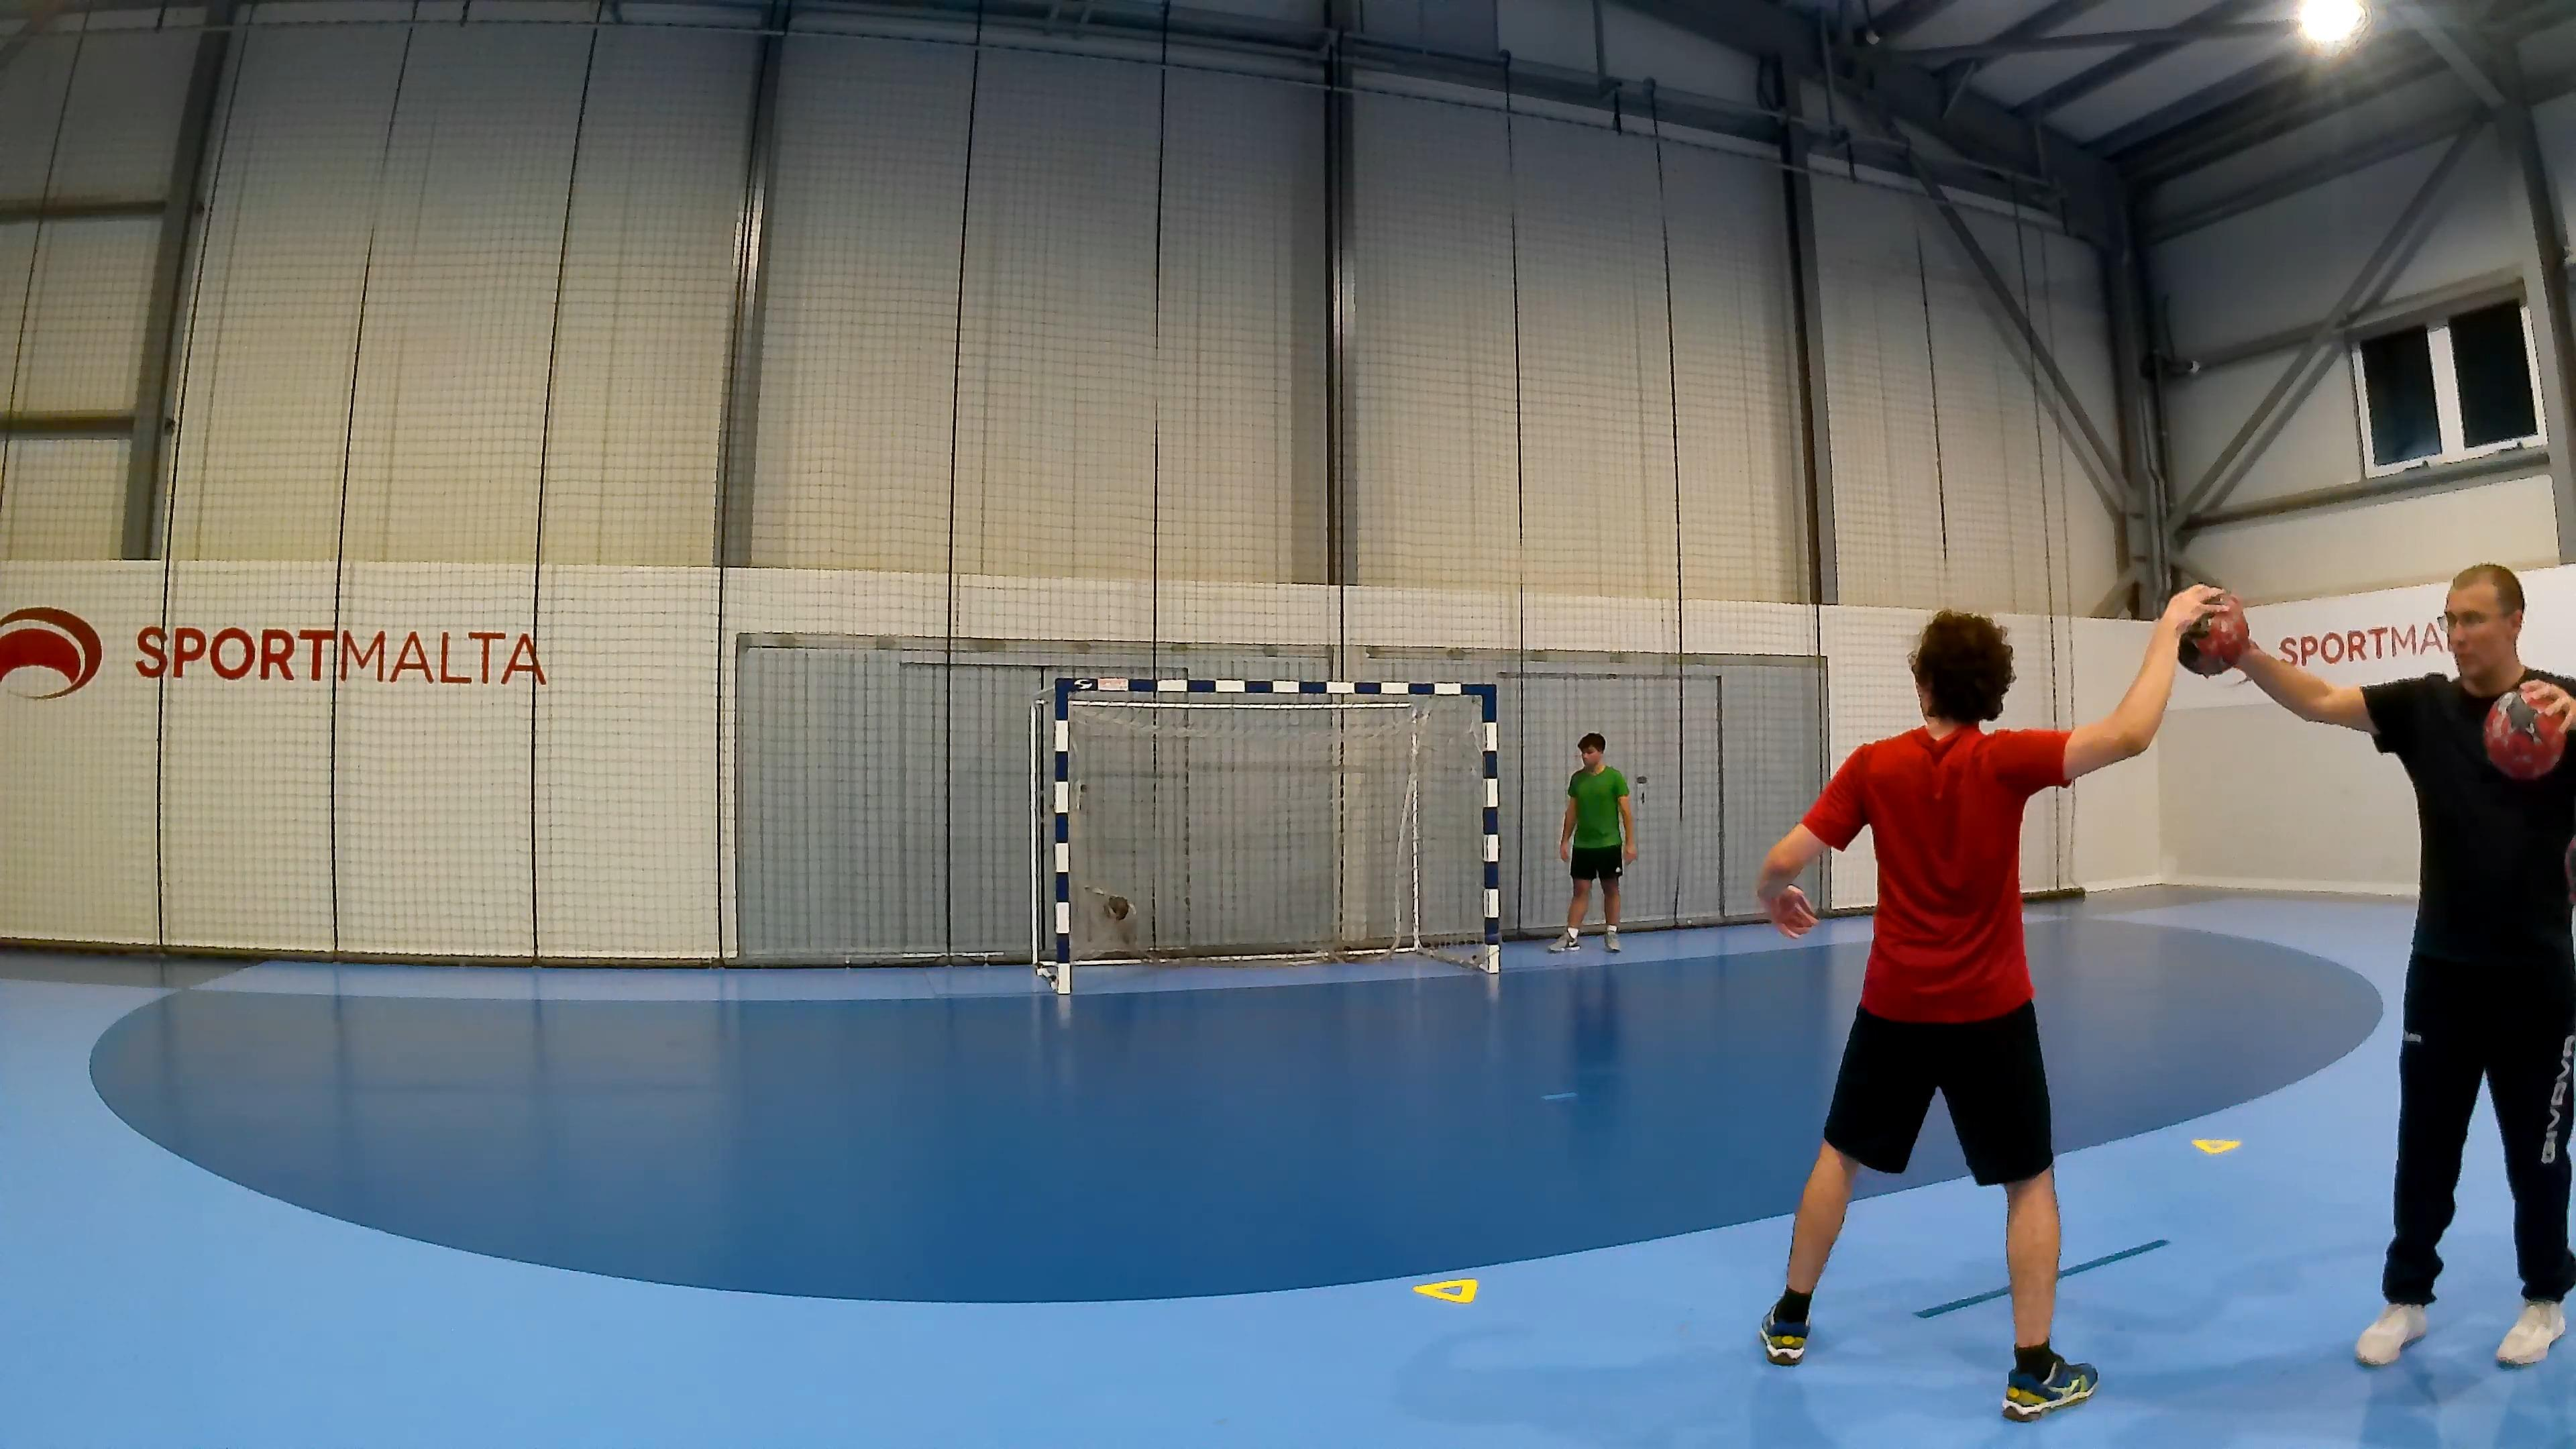handball: (2482, 686, 2565, 780), (2176, 587, 2249, 678)
